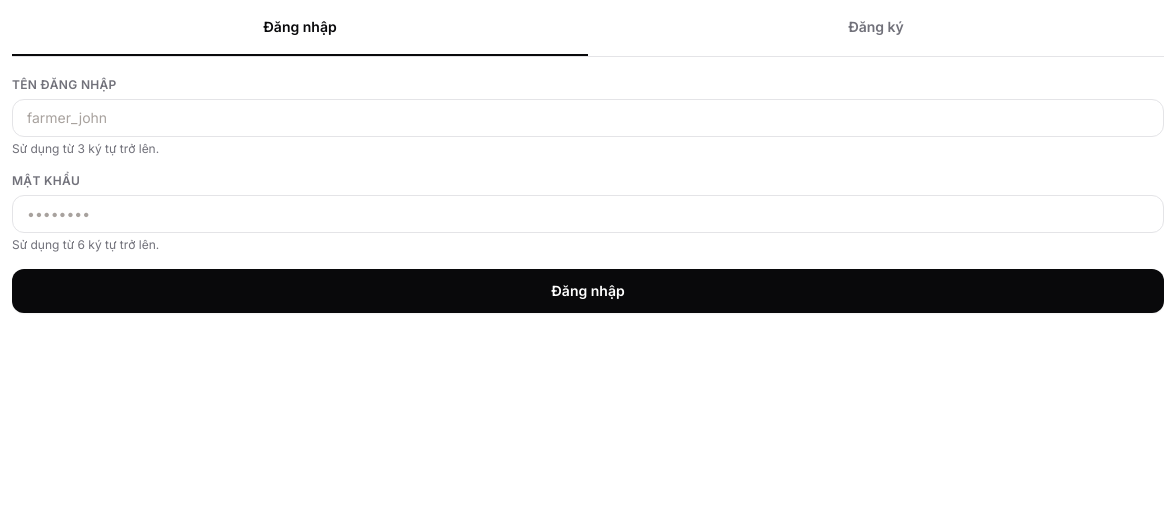
Test case: AuthForm › does not render raw backend exception text
This screenshot has width=1176, height=508.
Click the button "Đăng ký". click: {"x": 876, "y": 34}
box: [588,12,1164,56]
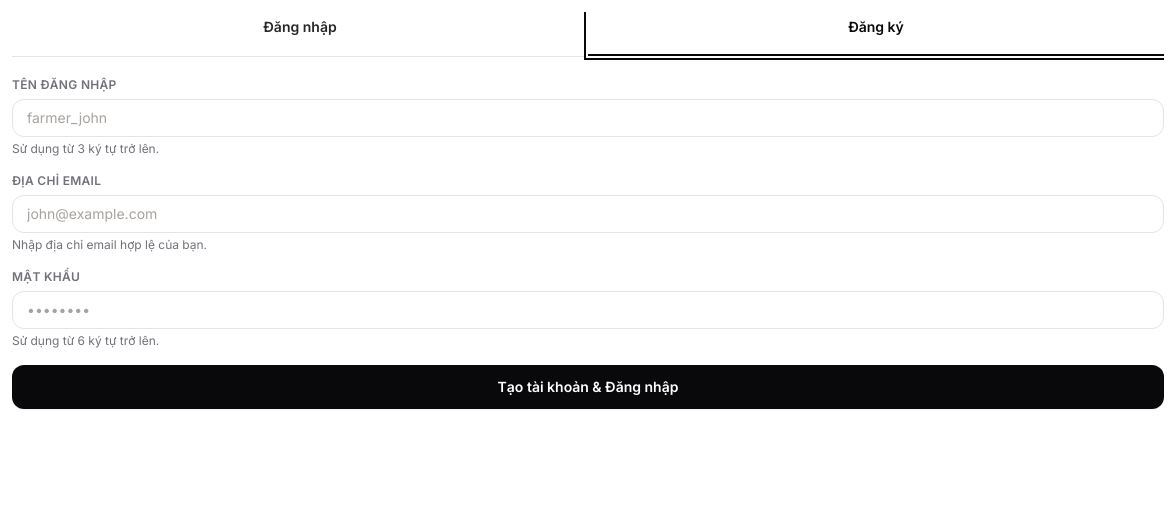
Type "farmer" into the field labelled "Tên đăng nhập". click: {"x": 588, "y": 118}
box: [12,99,1164,137]
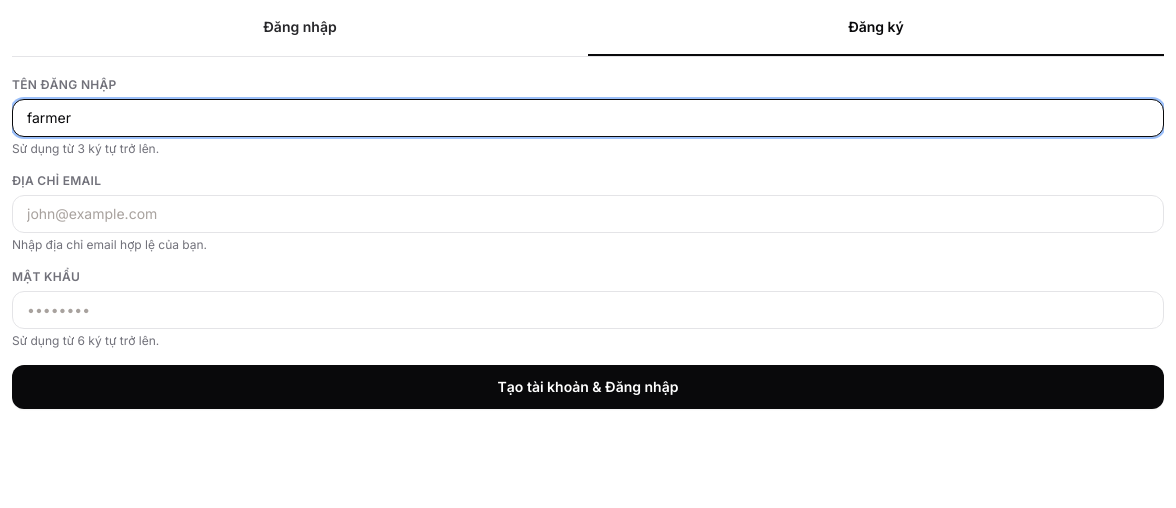
Type "farmer@example.com" into the field labelled "Địa chỉ Email". click: {"x": 588, "y": 214}
box: [12,195,1164,233]
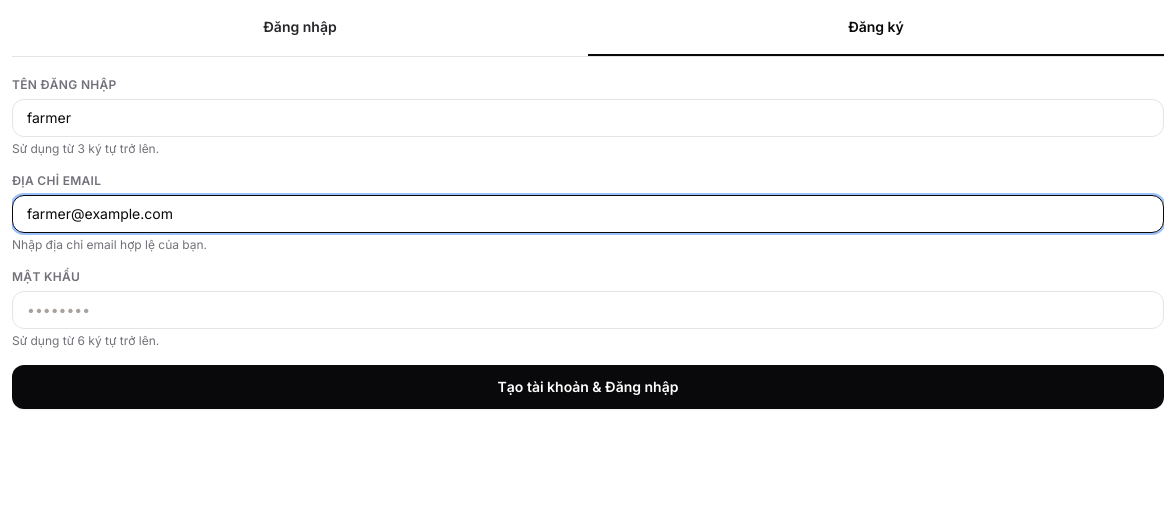
Type "secret1" into the password field labelled "Mật khẩu". click: {"x": 588, "y": 310}
box: [12,291,1164,329]
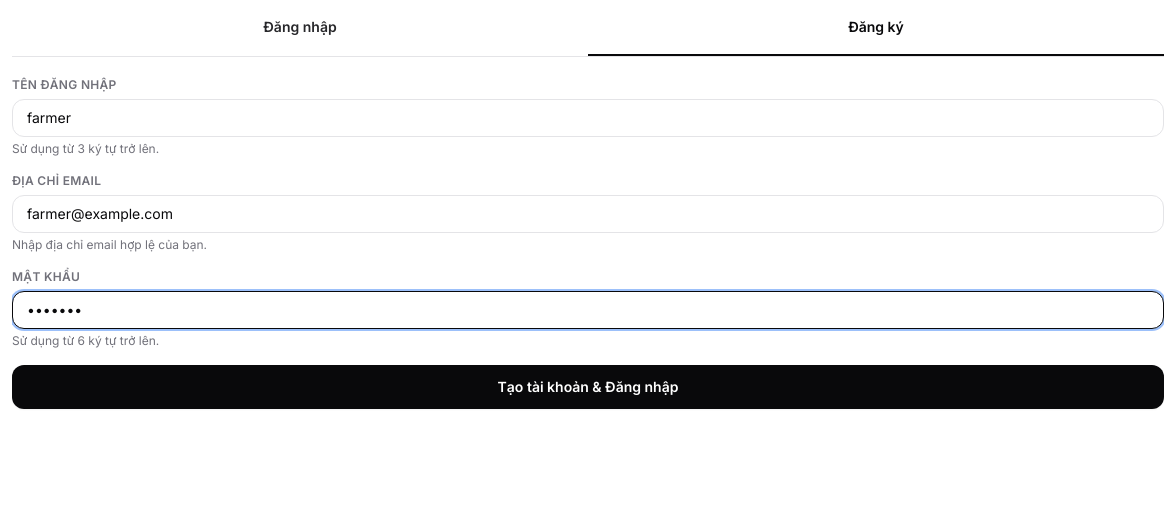
Click the button "Tạo tài khoản & Đăng nhập". click: {"x": 588, "y": 387}
box: [12,365,1164,409]
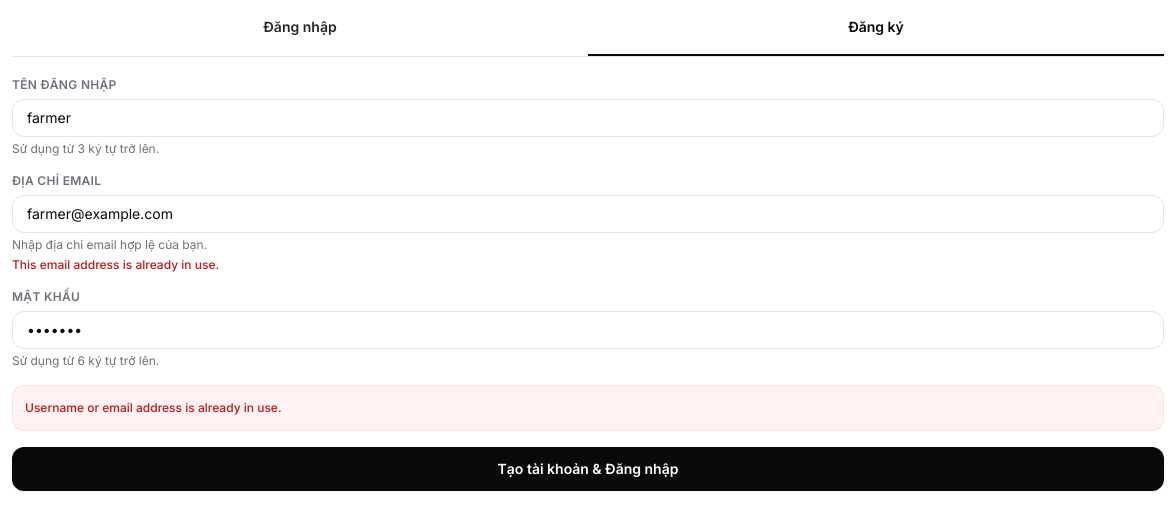
Expected: the text "This email address is already in use." is shown, [12,257,219,272]
